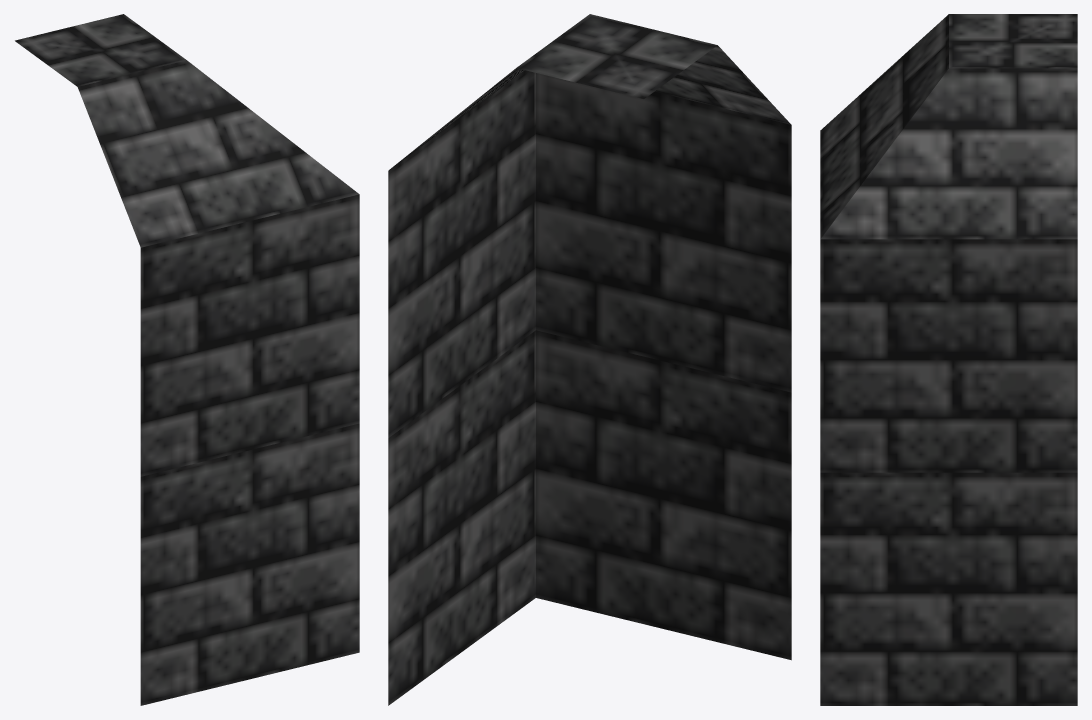
The model's file is Dungeon_WallCorner_Placeholder.fbx.
3 views of the same model, side by side, from view 1: azimuth 30°, elevation 25°; view 2: azimuth 150°, elevation 25°; view 3: azimuth 270°, elevation 25° (orthographic). The views are drawn at different scales.
Visible parts, largest first — view 1: Wall_Corner; view 2: Wall_Corner; view 3: Wall_Corner.
Part boxes in pixels (bbox=[...]): Wall_Corner: bbox=[15, 14, 359, 705]; Wall_Corner: bbox=[388, 14, 791, 705]; Wall_Corner: bbox=[820, 14, 1077, 705].
Size of the model in its own units: 100 by 250 by 100.
